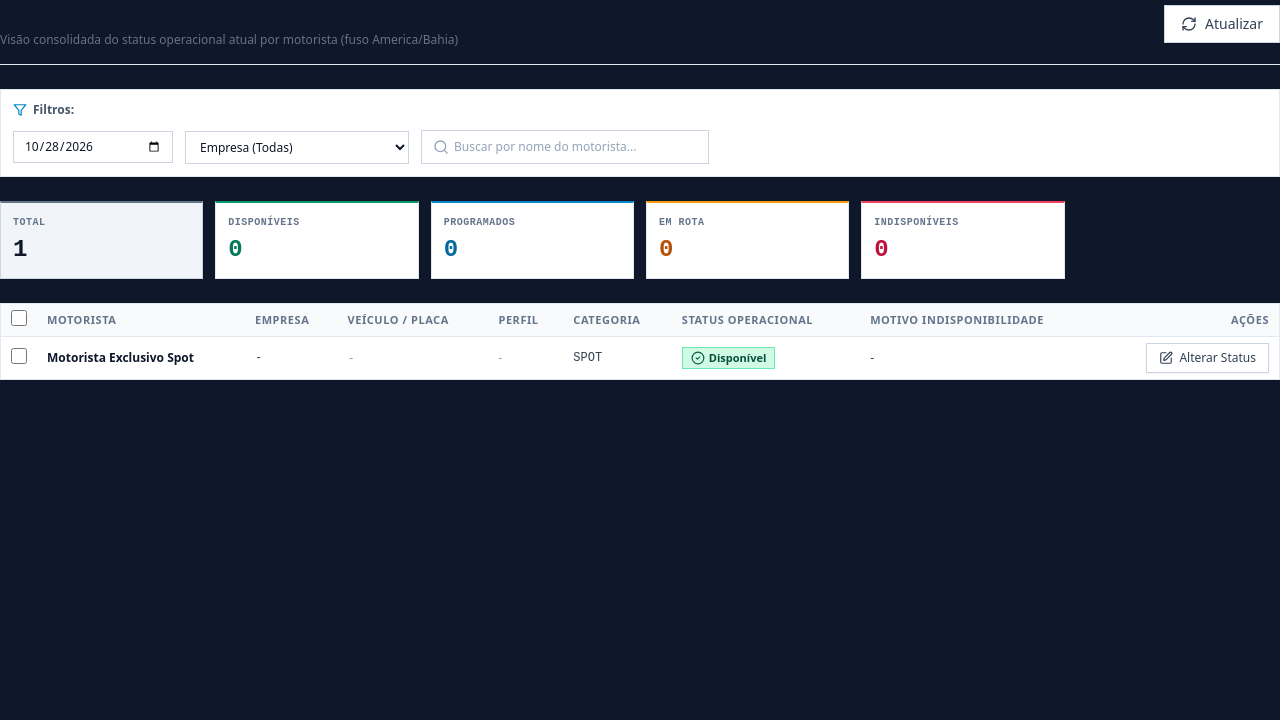
Test case: Suíte de Testes S2 — Página de Status de Motoristas › deve desabilitar opções Programado e Em Rota para motorista da categoria SPOT
The image size is (1280, 720).
Expected: the text "Motorista Exclusivo Spot" is shown, left=37, top=336, right=245, bottom=379
Click the button "Alterar Status". click: x=1208, y=358
box: left=1146, top=343, right=1269, bottom=373
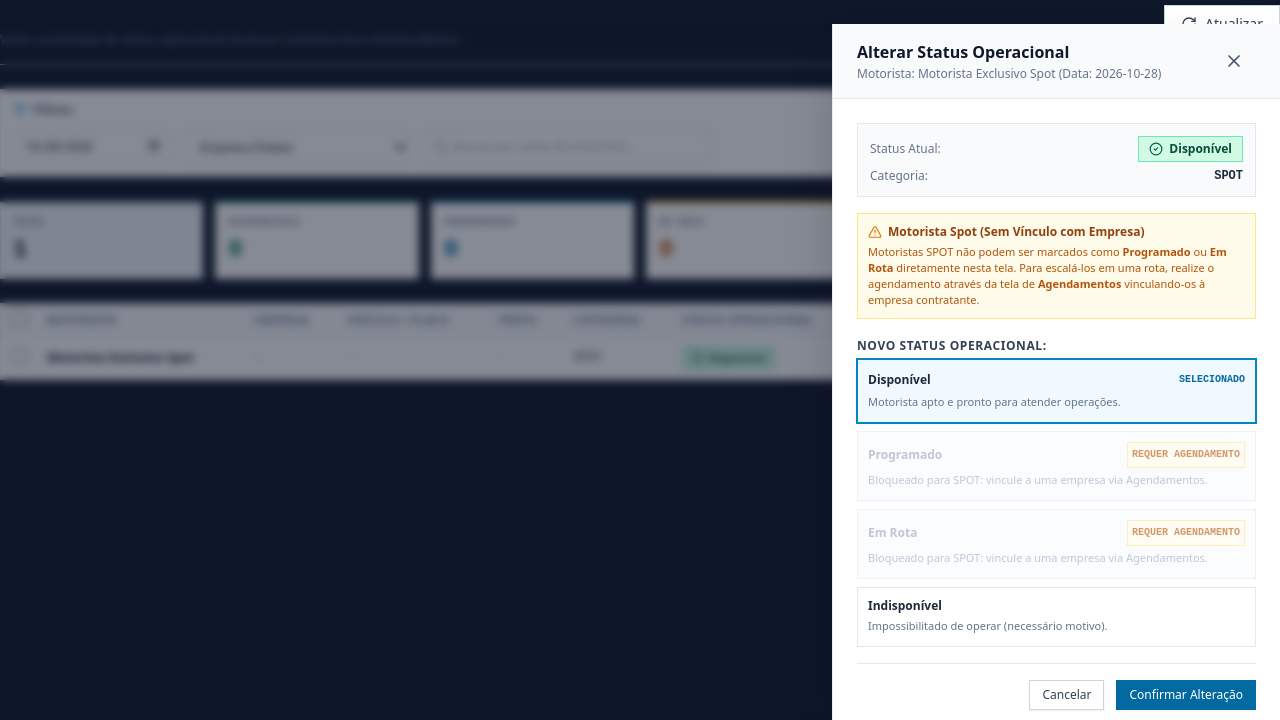
Expected: the heading "Alterar Status Operacional" is shown, left=857, top=41, right=1069, bottom=63
Expected: the text "Motorista Spot (Sem Vínculo com Empresa)" is shown, left=868, top=223, right=1144, bottom=240
Expected: the button "Programado" is disabled, left=857, top=431, right=1256, bottom=501
